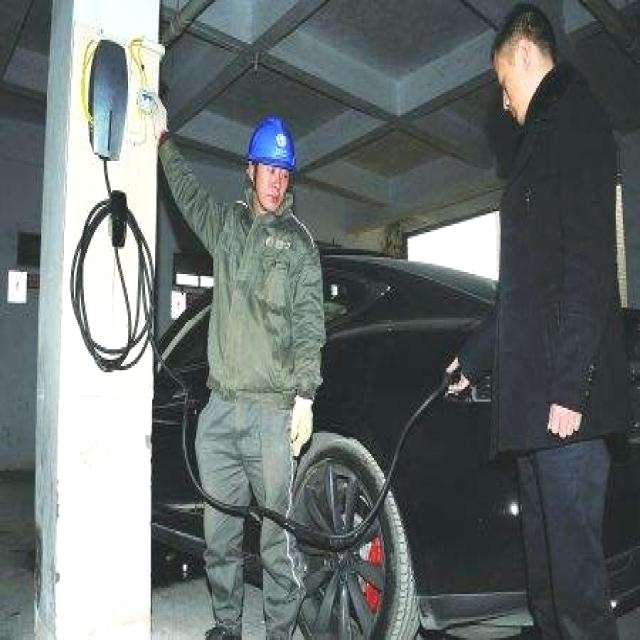Sin_Chaleco: (210, 201, 321, 408)
